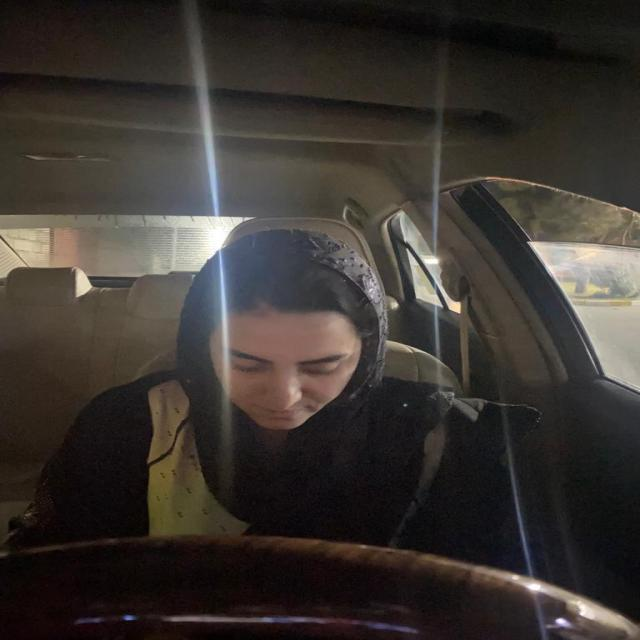drowsy: (181, 209, 398, 444)
